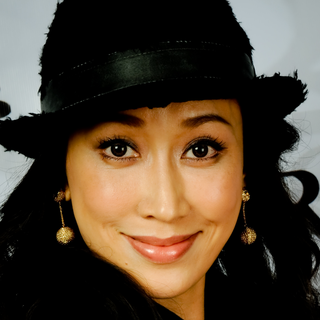eye: (94, 134, 141, 164), (179, 135, 225, 165)
